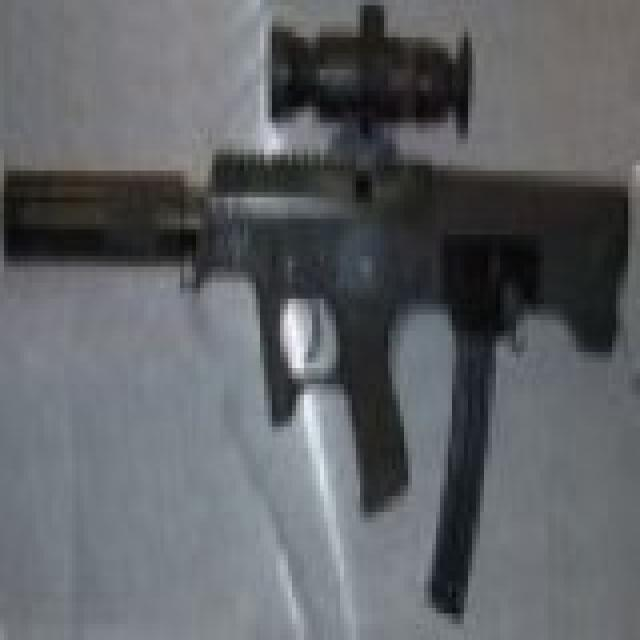Gun: (6, 9, 621, 626)
